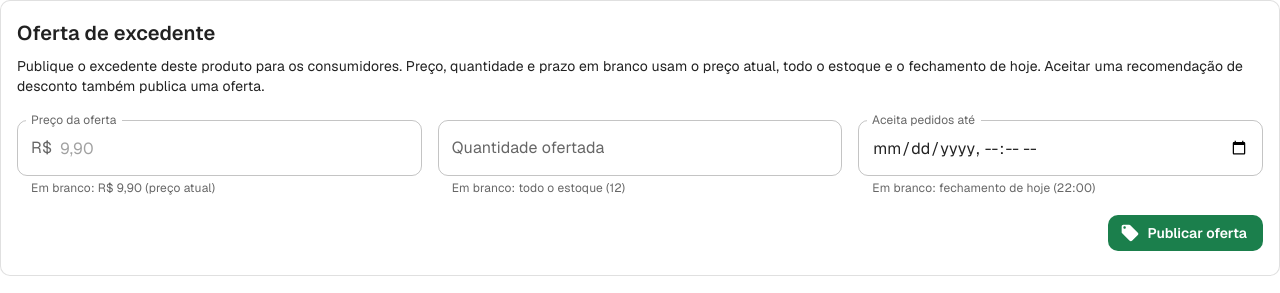
Scenario: ProductOfferCard › puts a validation sub-error on its own field
Click the button "Publicar oferta": [1185, 233] box [1108,215,1263,251]
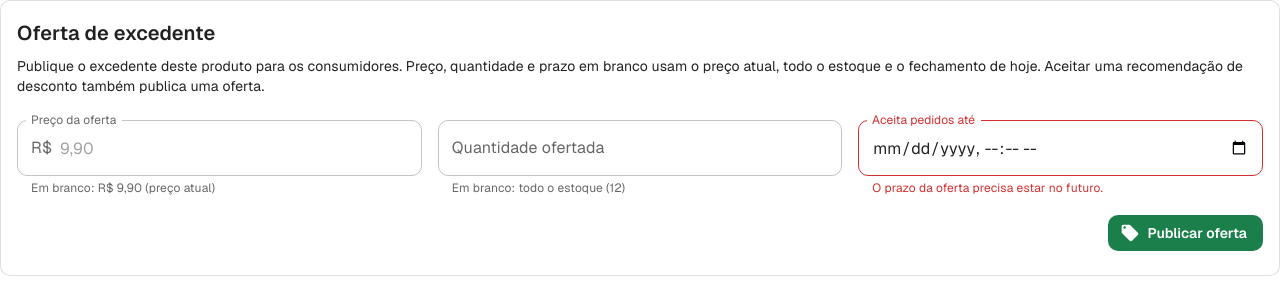
Expected: the text "O prazo da oferta precisa estar no futuro." is shown, [872,180,1103,196]
